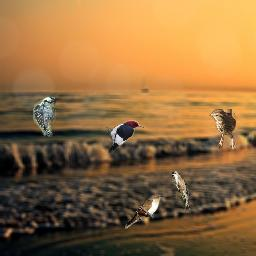Cuckoo: (125, 194, 165, 229), (172, 171, 190, 211)
Sparrow: (209, 109, 236, 149)
Woodpecker: (106, 120, 146, 153), (33, 97, 56, 137)
